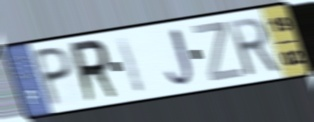I: (113, 34, 148, 97)
J: (163, 25, 200, 90)
P: (32, 44, 74, 110)
R: (67, 36, 122, 106), (225, 14, 284, 79)
Z: (190, 20, 247, 85)
